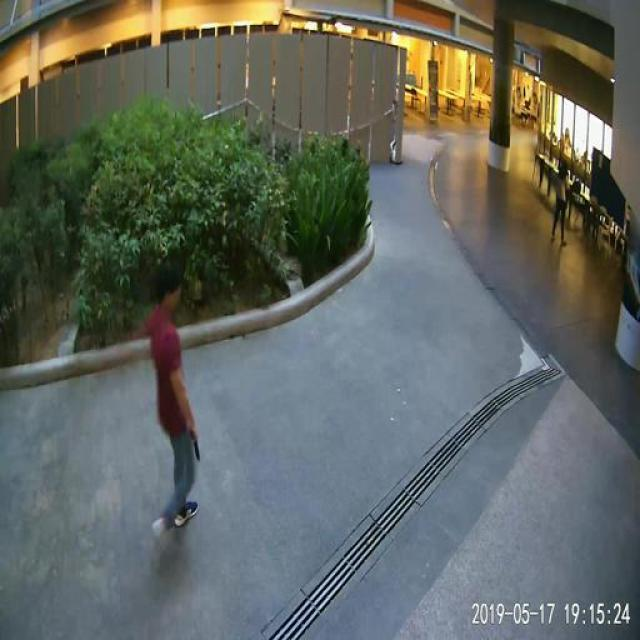Gun: (179, 423, 214, 472)
